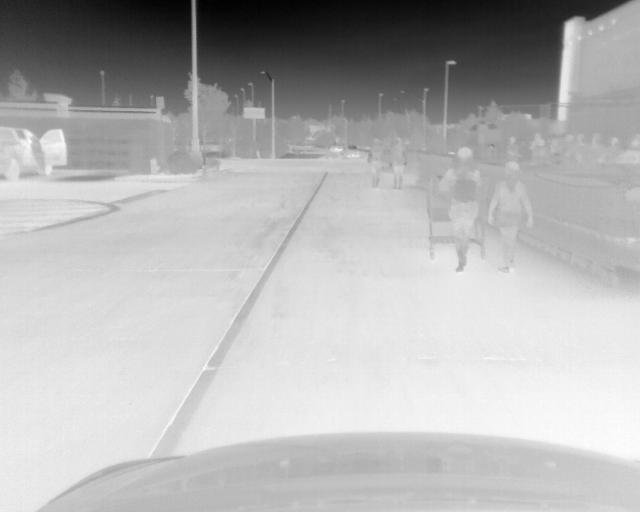car: (1, 126, 68, 179), (344, 146, 360, 159), (330, 143, 342, 153)
people: (434, 147, 481, 271), (487, 159, 538, 272), (389, 138, 408, 189), (27, 134, 48, 176), (564, 131, 591, 162), (368, 139, 385, 188), (600, 135, 625, 165), (616, 136, 640, 163), (503, 136, 521, 167), (531, 132, 548, 162), (588, 133, 604, 163)
